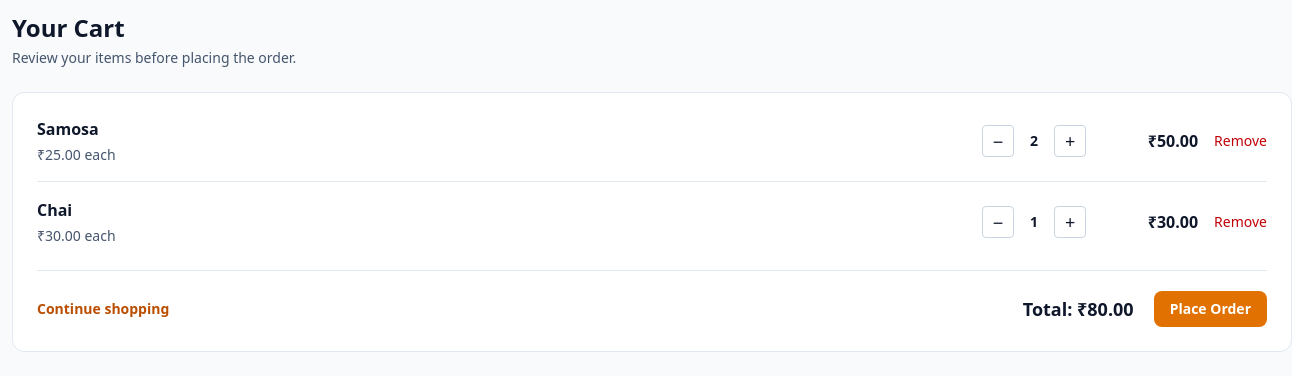
Increment 2: cart editing and checkout UI › shows the confirmed order and clears the cart only after successful placement
Click the button "Place Order": (1210, 309) [1154,291,1267,327]
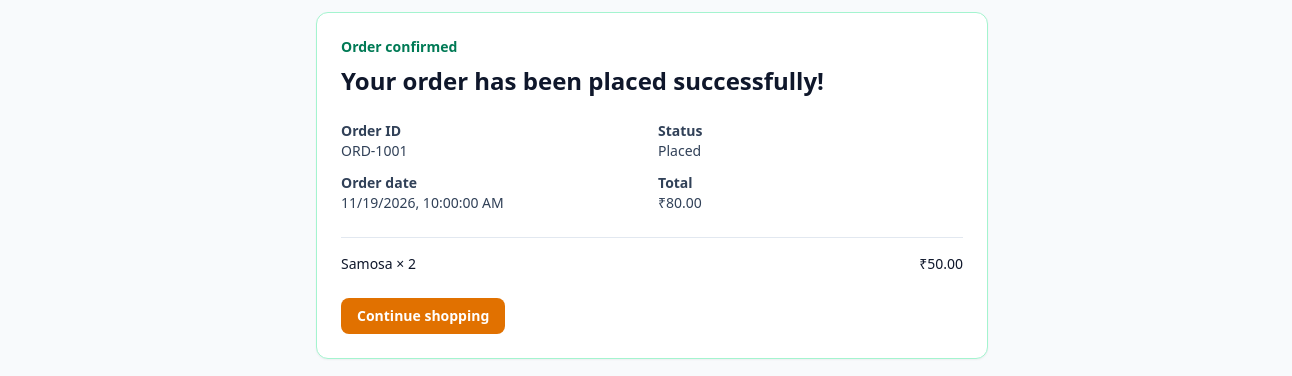
Check: the heading "Your order has been placed successfully!" is shown, box [341,64,824,97]
Check: the text "ORD-1001" is shown, box [341,141,407,160]
Check: the text "Placed" is shown, box [658,141,701,160]
